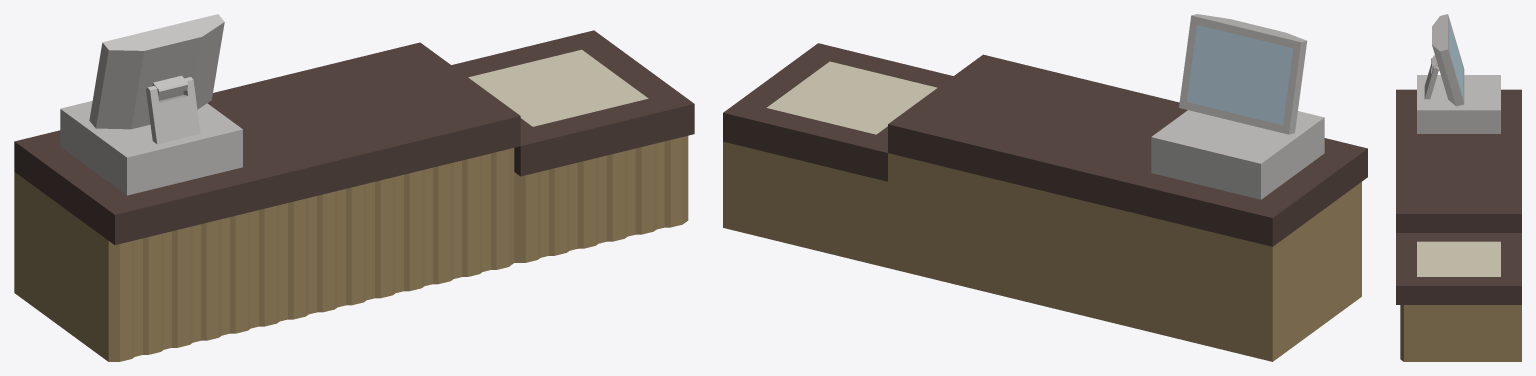
File: Counter04.fbx
3 renders of one model, left to right at view 1: azimuth 30°, elevation 25°; view 2: azimuth 150°, elevation 25°; view 3: azimuth 270°, elevation 25°, orthographic. The views are drawn at different scales.
Visible parts, largest first — view 1: Table_Large, Table_Small, CashRegister; view 2: Table_Large, Table_Small, CashRegister; view 3: Table_Small, Table_Large, CashRegister.
Part boxes in pixels (box(x1,y1,x2,y2)): Table_Large: box(14, 42, 520, 361); Table_Small: box(451, 30, 694, 262); CashRegister: box(60, 14, 242, 195); Table_Large: box(888, 54, 1367, 361); Table_Small: box(723, 43, 953, 267); CashRegister: box(1151, 14, 1324, 199); Table_Small: box(1396, 233, 1521, 361); Table_Large: box(1396, 89, 1521, 232); CashRegister: box(1417, 14, 1500, 133).
Bounding box in the file's own units: 4 × 1.89 × 1.2.
Materials: 1 (1 with a texture image).
